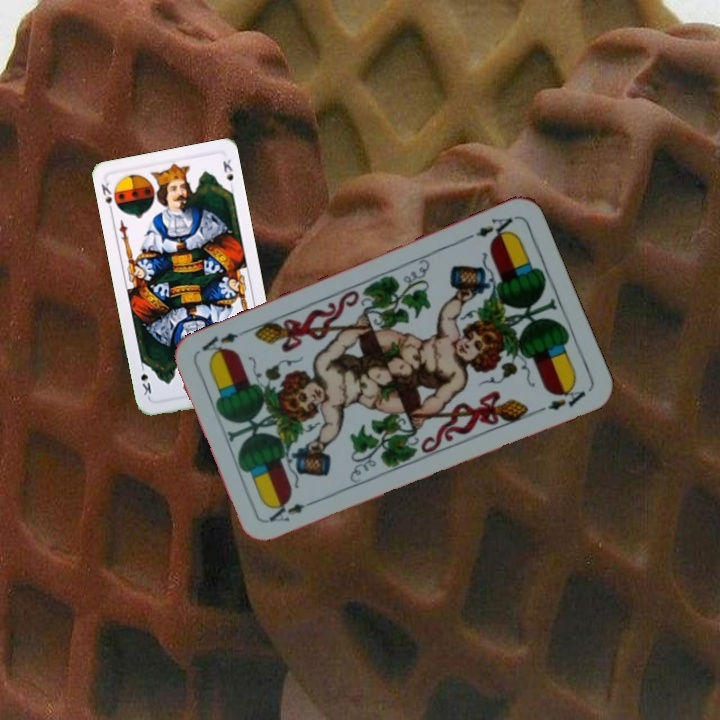EA: (461, 213, 517, 244), (264, 495, 321, 525)
SK: (97, 179, 115, 216)
